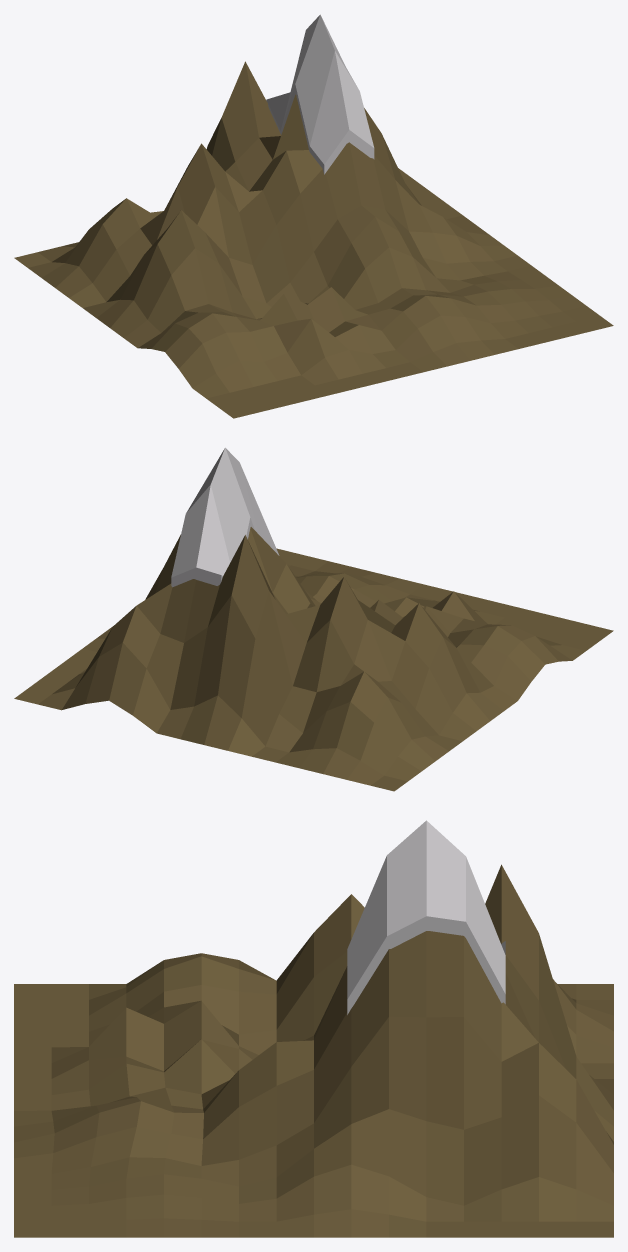
File: gunungB.fbx
The picture shows the model from 3 angles, top to bottom: view 1: azimuth 30°, elevation 25°; view 2: azimuth 150°, elevation 25°; view 3: azimuth 270°, elevation 25°; orthographic projection. The views are drawn at different scales.
Visible parts, largest first — view 1: Gunung, Salju; view 2: Gunung, Salju; view 3: Gunung, Salju.
Part boxes in pixels (bbox=[...]): Gunung: bbox=[14, 61, 613, 418]; Salju: bbox=[266, 14, 374, 174]; Gunung: bbox=[14, 527, 613, 791]; Salju: bbox=[171, 447, 279, 587]; Gunung: bbox=[14, 864, 613, 1237]; Salju: bbox=[347, 820, 505, 1014].
Size of the model in its own units: 9.87 by 5.86 by 9.87.
